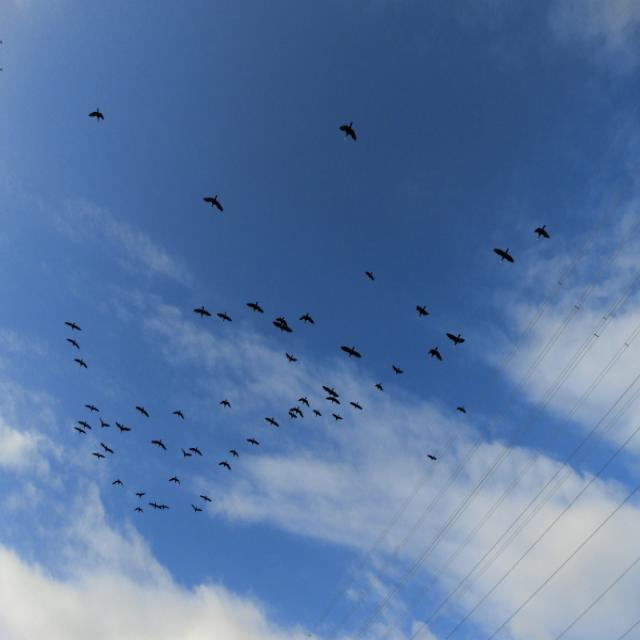bird: (271, 316, 294, 336), (203, 197, 226, 214), (492, 249, 514, 266), (338, 123, 357, 142), (340, 344, 362, 360), (322, 389, 342, 406), (321, 384, 340, 401), (446, 332, 466, 348), (244, 301, 264, 316), (184, 444, 204, 459), (74, 420, 94, 435), (88, 110, 106, 126), (192, 305, 211, 320), (62, 318, 82, 332), (298, 313, 316, 328), (150, 439, 168, 454), (428, 346, 444, 362), (288, 407, 305, 422), (534, 227, 552, 241), (264, 416, 282, 430), (217, 310, 235, 324), (98, 441, 114, 456), (84, 402, 101, 416), (170, 408, 185, 423), (134, 406, 150, 420), (116, 420, 132, 434), (72, 358, 88, 372), (414, 305, 430, 318), (148, 502, 168, 512), (392, 364, 406, 378), (348, 400, 363, 413), (96, 417, 111, 430), (64, 338, 80, 350), (219, 398, 233, 411), (132, 488, 146, 501), (219, 462, 234, 474), (285, 354, 300, 366), (244, 437, 260, 448), (330, 411, 344, 423), (112, 478, 125, 490), (364, 270, 377, 282), (198, 495, 212, 506), (90, 450, 105, 460), (373, 381, 385, 393), (167, 476, 181, 486), (310, 407, 322, 418), (427, 452, 439, 463), (228, 448, 240, 459), (454, 406, 467, 416), (131, 506, 144, 516), (191, 504, 204, 514), (298, 398, 310, 408)
